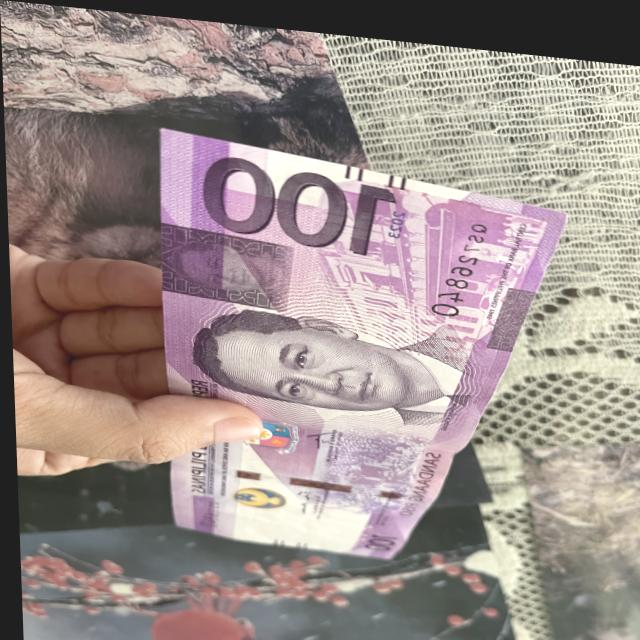concealed_value: (156, 218, 293, 308)
security_thread: (167, 460, 429, 494)
serial_number: (423, 208, 492, 313)
value: (184, 142, 407, 254)
